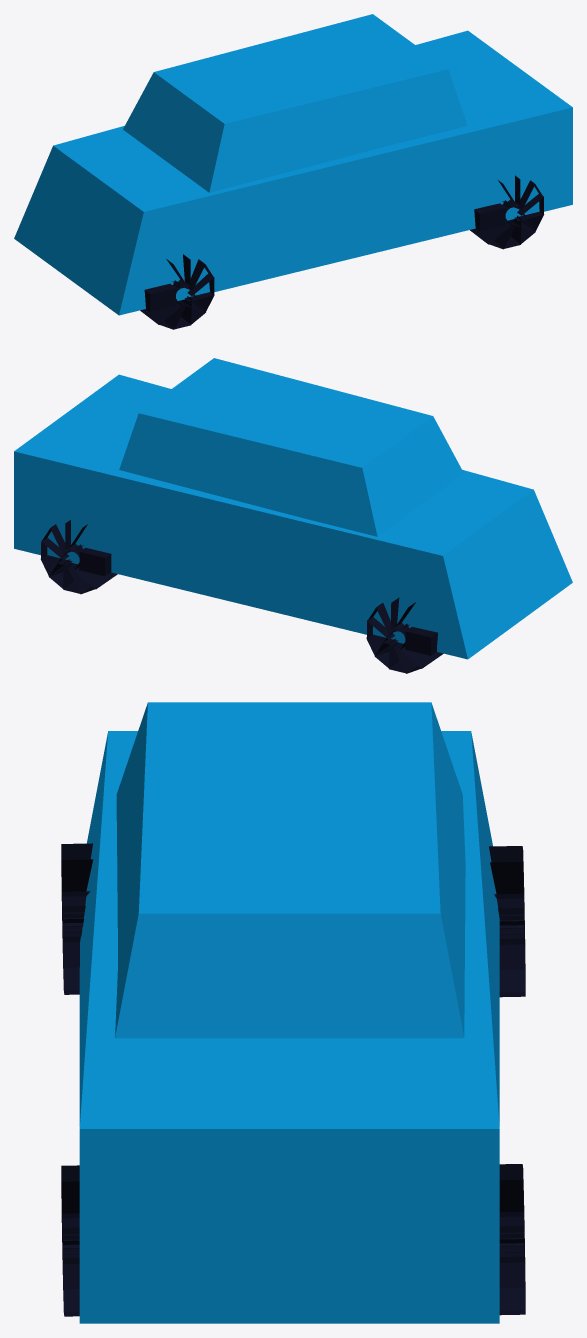
Rendered from car.glb.
3 views of the same model, one above another, from view 1: azimuth 30°, elevation 25°; view 2: azimuth 150°, elevation 25°; view 3: azimuth 270°, elevation 25° (orthographic). The views are drawn at different scales.
Visible parts, largest first — view 1: Chassy, TopHalf, Wheel1, Wheel4; view 2: Chassy, TopHalf, Wheel2, Wheel3; view 3: Chassy, TopHalf, Wheel2, Wheel3, Wheel1, Wheel4.
Part boxes in pixels (x1=…): Chassy: x1=14, y1=30, x2=572, y2=315; TopHalf: x1=123, y1=14, x2=467, y2=192; Wheel1: x1=140, y1=254, x2=214, y2=329; Wheel4: x1=470, y1=175, x2=544, y2=249; Chassy: x1=14, y1=374, x2=572, y2=659; TopHalf: x1=119, y1=358, x2=463, y2=536; Wheel2: x1=366, y1=597, x2=443, y2=673; Wheel3: x1=40, y1=520, x2=117, y2=594; Chassy: x1=79, y1=731, x2=499, y2=1323; TopHalf: x1=115, y1=702, x2=465, y2=1038; Wheel2: x1=489, y1=846, x2=525, y2=997; Wheel3: x1=499, y1=1164, x2=525, y2=1315; Wheel1: x1=61, y1=843, x2=93, y2=994; Wheel4: x1=61, y1=1165, x2=79, y2=1316.
Bounding box in the file's own units: 9.76 × 3.61 × 4.32.
